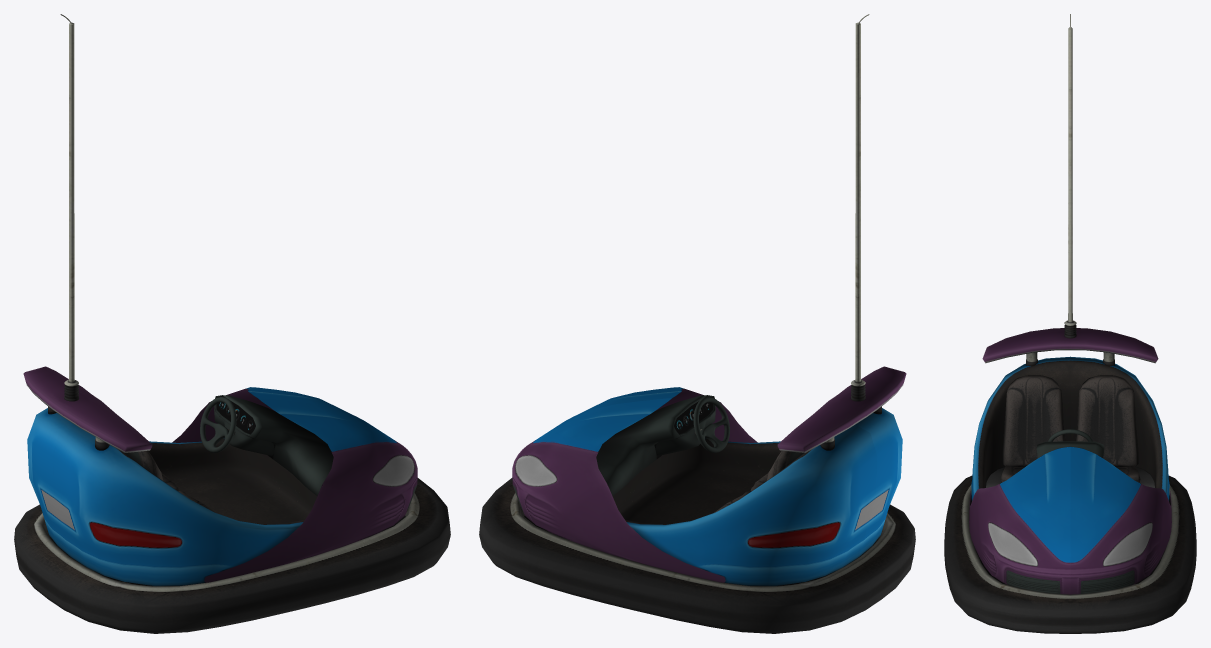
The model's file is bumper_car.obj.
The picture shows the model from 3 angles, left to right: view 1: azimuth 30°, elevation 25°; view 2: azimuth 150°, elevation 25°; view 3: azimuth 270°, elevation 25°; orthographic projection. The views are drawn at different scales.
Parts seen in each view (by area): view 1: obj1; view 2: obj1; view 3: obj1.
Part boxes in pixels (box(x1,y1,x2,y2)): obj1: box(14, 14, 450, 633); obj1: box(479, 14, 915, 633); obj1: box(944, 14, 1196, 633).
Size of the model in its own units: 2.78 by 4.1 by 1.96.
